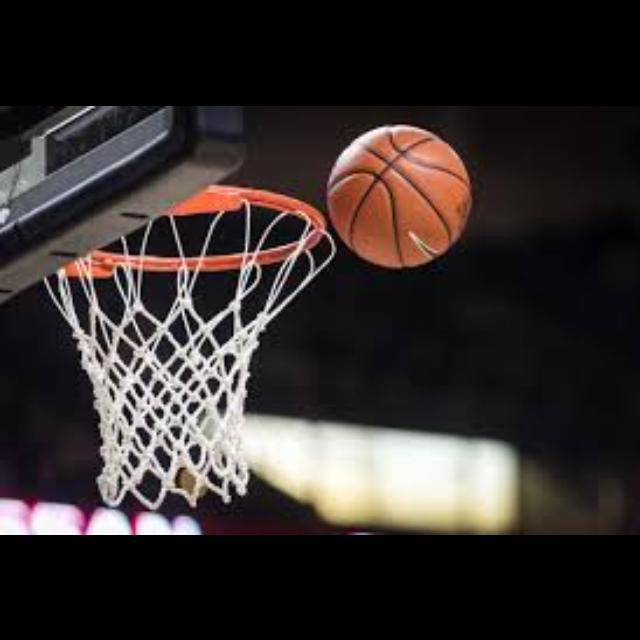basketball: (330, 124, 470, 270)
rim: (52, 184, 324, 508)
